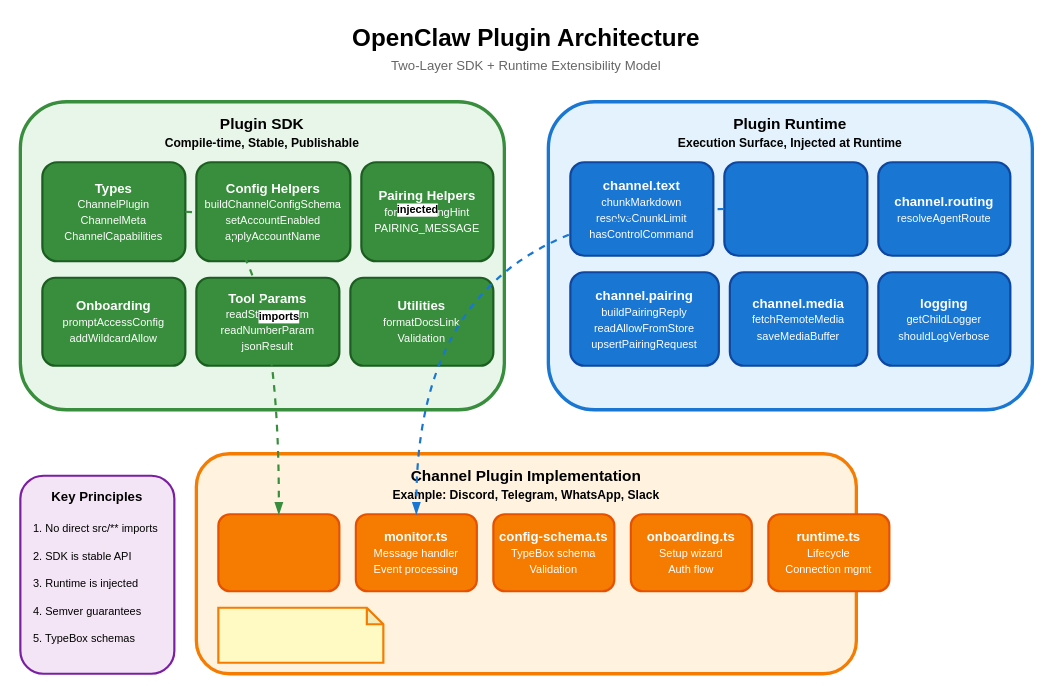
The diagram is 1053 pixels wide and 694 high, and some of its shapes have lost their labels. The shapes that lost their labels are listed below. From the top down, each one's centre as x and y in pixels, then its label:
At point 795,208: "channel.reply dispatchReply bufferedDispatcher".
At point 278,552: "channel.ts implements ChannelPlugin".
At point 300,634: "openclaw.plugin.json id, name, version, caps".
